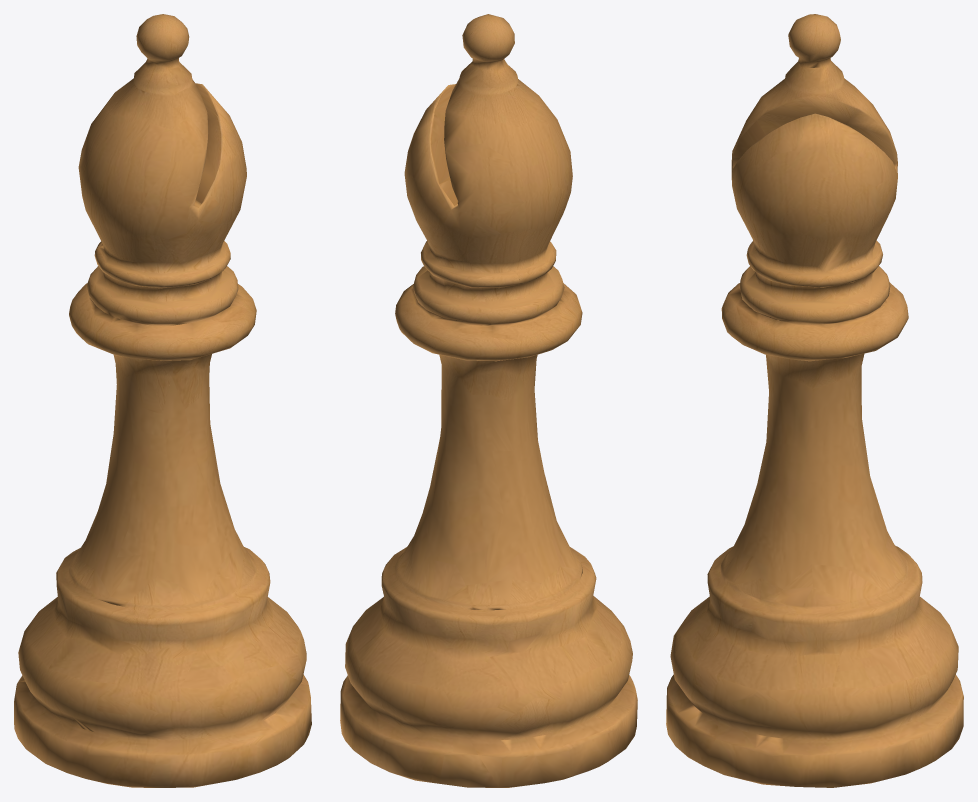
File: alfil.obj
3 renders of one model, left to right at view 1: azimuth 30°, elevation 25°; view 2: azimuth 150°, elevation 25°; view 3: azimuth 270°, elevation 25°, orthographic.
Visible parts, largest first — view 1: Meshy_AI_staunton_chess_bishop_0926011947_image-to-3d-texture; view 2: Meshy_AI_staunton_chess_bishop_0926011947_image-to-3d-texture; view 3: Meshy_AI_staunton_chess_bishop_0926011947_image-to-3d-texture.
Boxes of the visible parts, box(x1,y1,x2,y2) form: Meshy_AI_staunton_chess_bishop_0926011947_image-to-3d-texture: box(14, 14, 311, 787); Meshy_AI_staunton_chess_bishop_0926011947_image-to-3d-texture: box(340, 14, 637, 787); Meshy_AI_staunton_chess_bishop_0926011947_image-to-3d-texture: box(666, 14, 963, 787).
Size of the model in its own units: 0.0359 by 0.095 by 0.036.
Materials: 1 (1 with a texture image).
